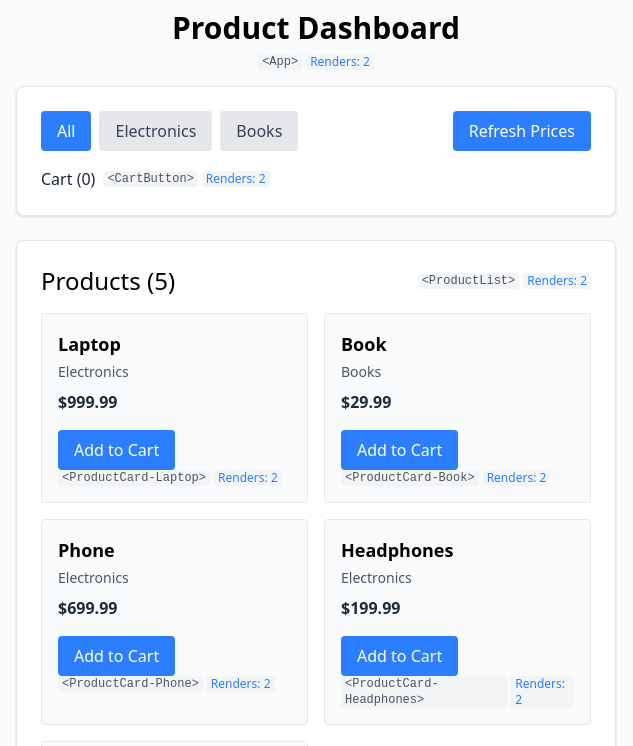
Product Dashboard checklist › Clicking the 'Electronics' filter shows only 3 products (Laptop, Phone, Headphones) and increments `ProductList` render count to 'Renders: 4'
Click the button "Electronics": click(156, 131) [100,111,212,151]
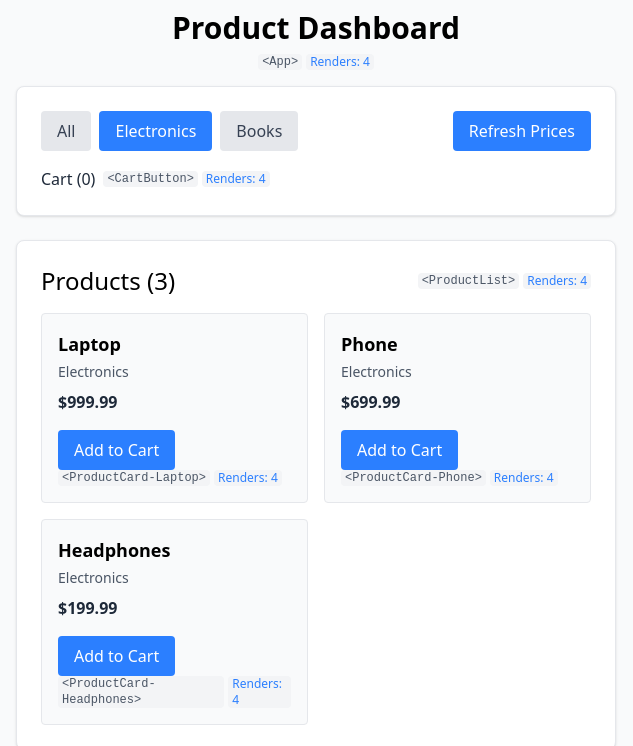
Check: the heading "Laptop" is shown, box [58,332,121,356]
Check: the heading "Products (3)" is shown, box [41,265,175,297]
Check: the text "Renders: 4" next to "ProductList" is shown, box [523,273,591,289]
